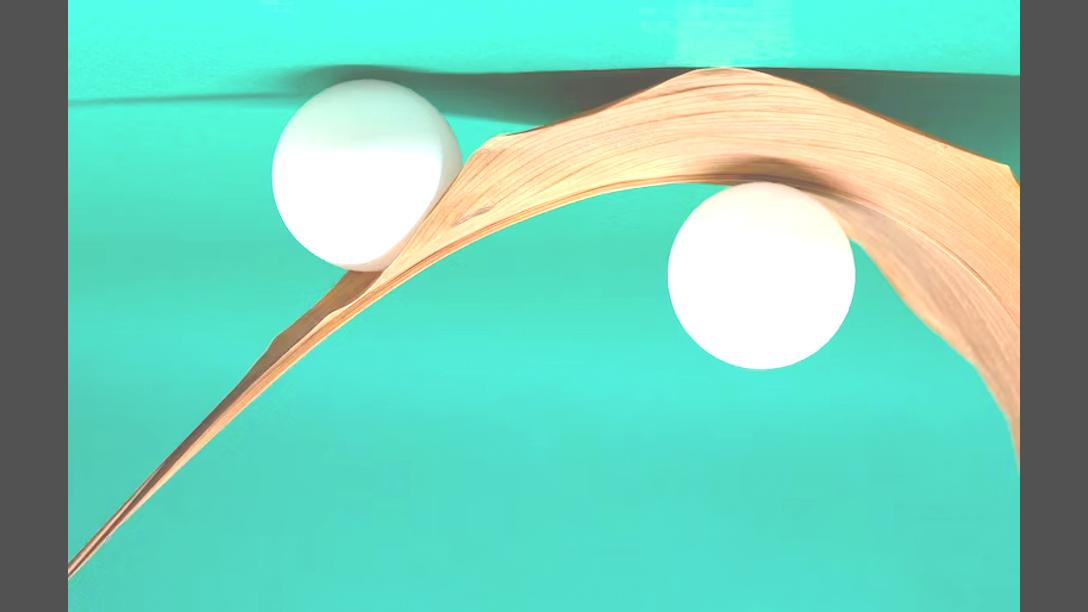Table-Tennis-Ball: (273, 79, 459, 271), (668, 187, 852, 368)
